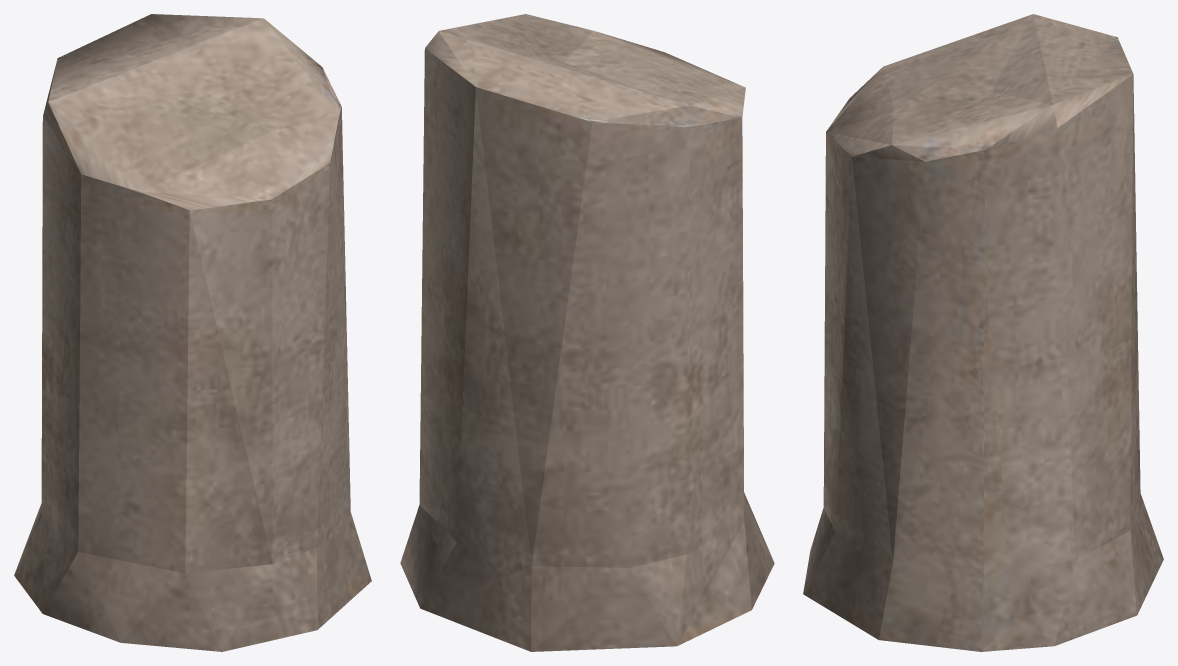
Rendered from mesh_BrokenPillar_b.fbx.
3 renders of one model, left to right at view 1: azimuth 30°, elevation 25°; view 2: azimuth 150°, elevation 25°; view 3: azimuth 270°, elevation 25°, orthographic. The views are drawn at different scales.
Visible parts, largest first — view 1: BrokenPillar_b; view 2: BrokenPillar_b; view 3: BrokenPillar_b.
Boxes of the visible parts, bbox=[...] form: BrokenPillar_b: bbox=[14, 14, 371, 651]; BrokenPillar_b: bbox=[400, 14, 774, 651]; BrokenPillar_b: bbox=[803, 14, 1163, 651].
Bounding box in the file's own units: 59.62 × 95.28 × 59.25.
Materials: 1 (1 with a texture image).
